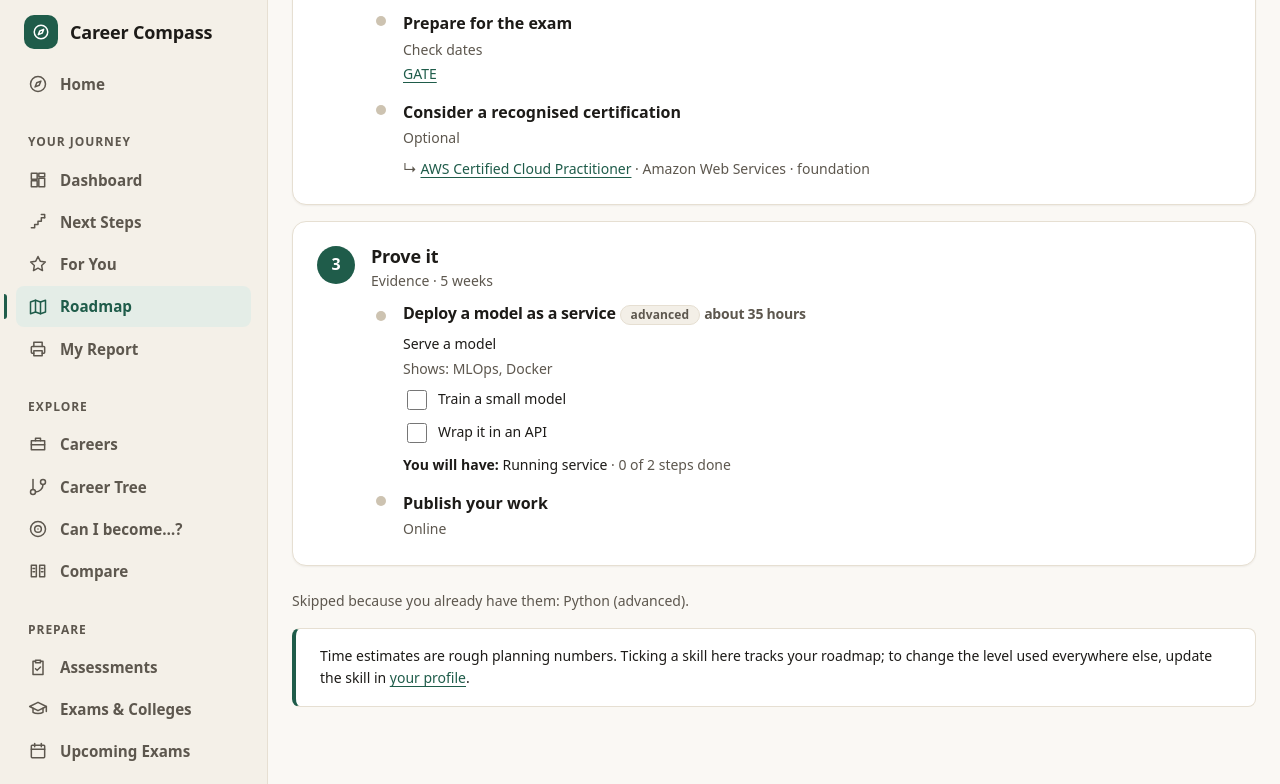
Roadmap page › shows project briefs with a checklist you can tick
(page scrolled)
Expected: the heading "Deploy a model as a service advanced about 35 hours" is shown, [403, 304, 806, 325]
Expected: the text "Shows: MLOps, Docker" is shown, [403, 359, 553, 378]
Step 1. Click the checkbox labelled "Train a small model" → click(417, 400), box [407, 390, 427, 410]
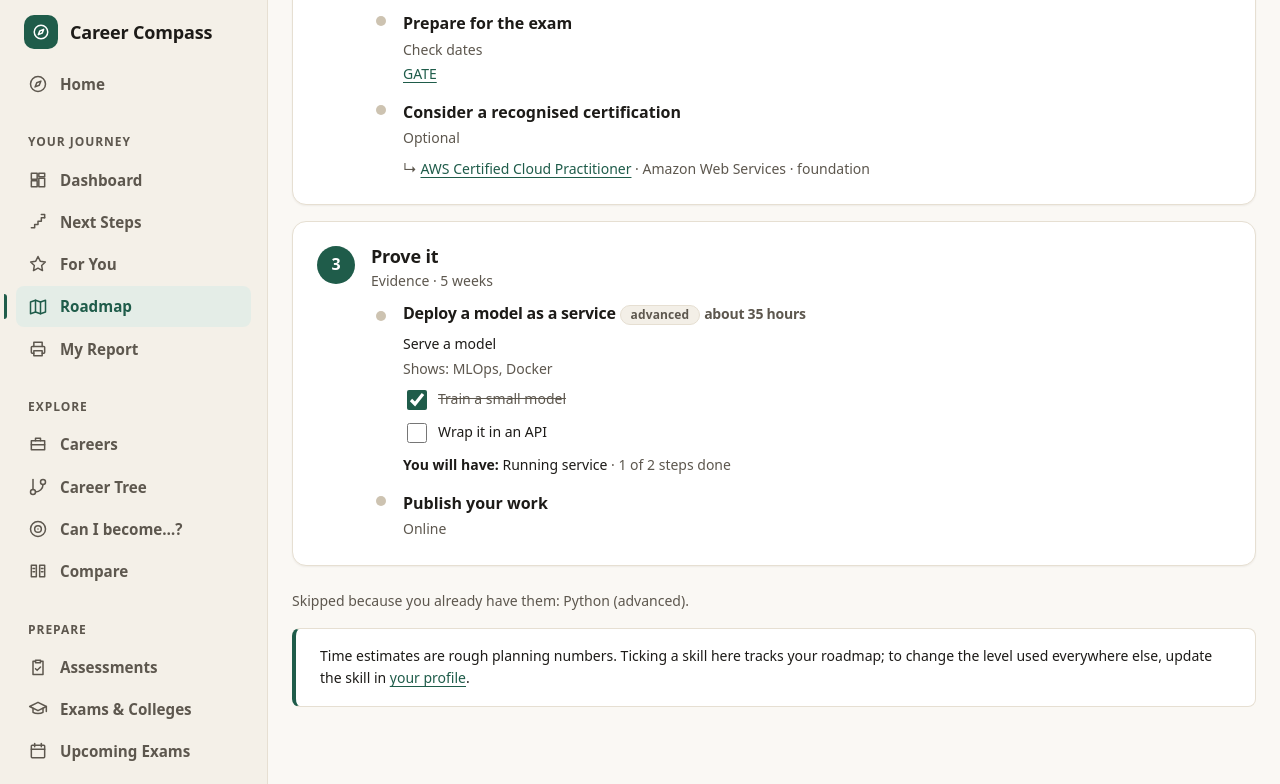
Now the text "· 1 of 2 steps done" is shown, box [607, 455, 731, 474]
